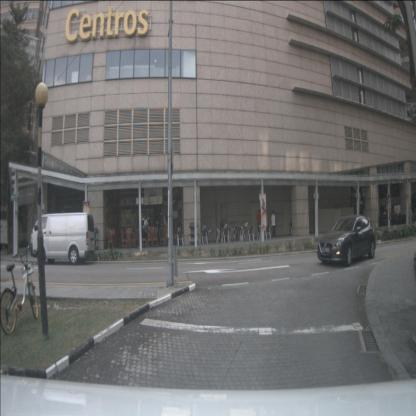human-pedestrian-adult: (270, 210, 278, 238), (141, 214, 148, 244), (257, 209, 262, 238)
vehicle-bicycle: (0, 244, 39, 336)
vehicle-car: (30, 212, 96, 265), (317, 215, 376, 267)
